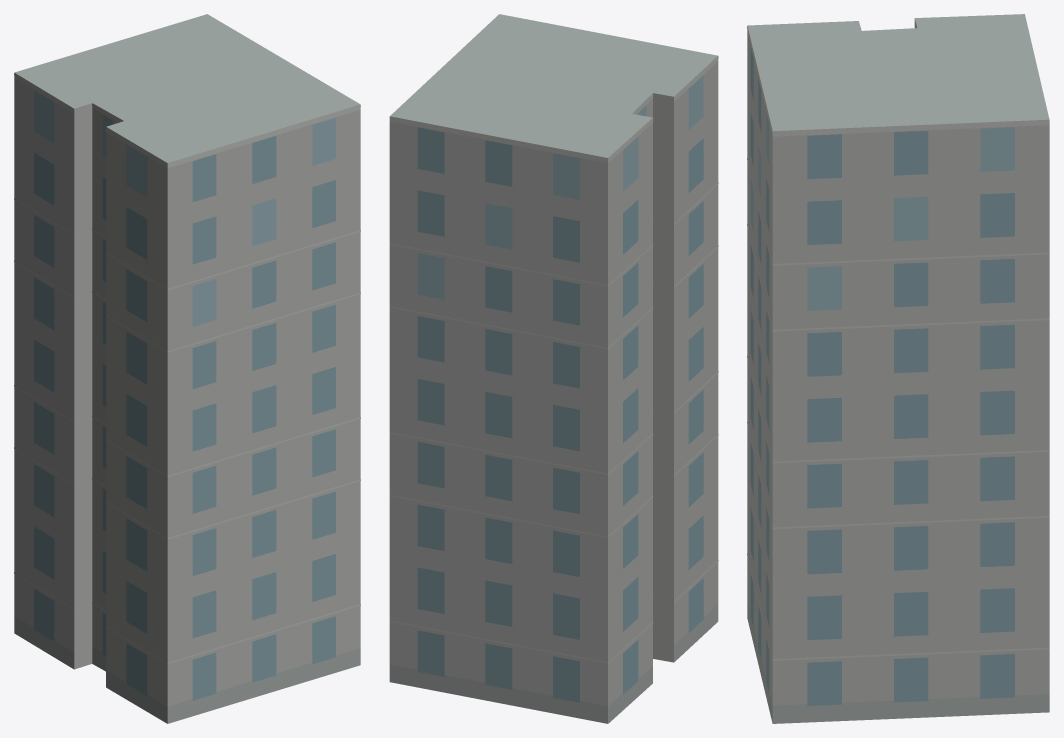
File: survey-upis-32664859.glb
The picture shows the model from 3 angles, left to right: view 1: azimuth 30°, elevation 25°; view 2: azimuth 150°, elevation 25°; view 3: azimuth 270°, elevation 25°; orthographic projection. The views are drawn at different scales.
Parts seen in each view (by area): view 1: survey-upis-32664859.tmp; view 2: survey-upis-32664859.tmp; view 3: survey-upis-32664859.tmp.
Boxes of the visible parts, x1,y1,x2,y2 form: survey-upis-32664859.tmp: (14,14,360,723); survey-upis-32664859.tmp: (389,14,718,723); survey-upis-32664859.tmp: (747,14,1049,723).
Size of the model in its own units: 11.05 by 26 by 12.04.
